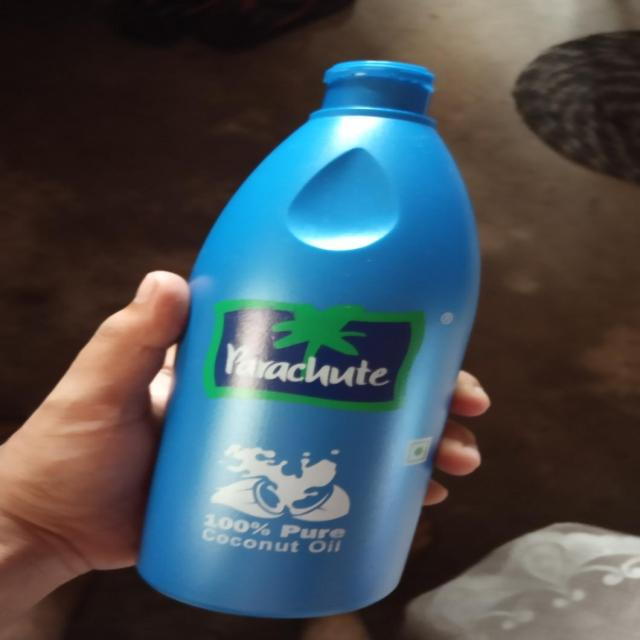parachute_oil: (145, 57, 469, 626)
